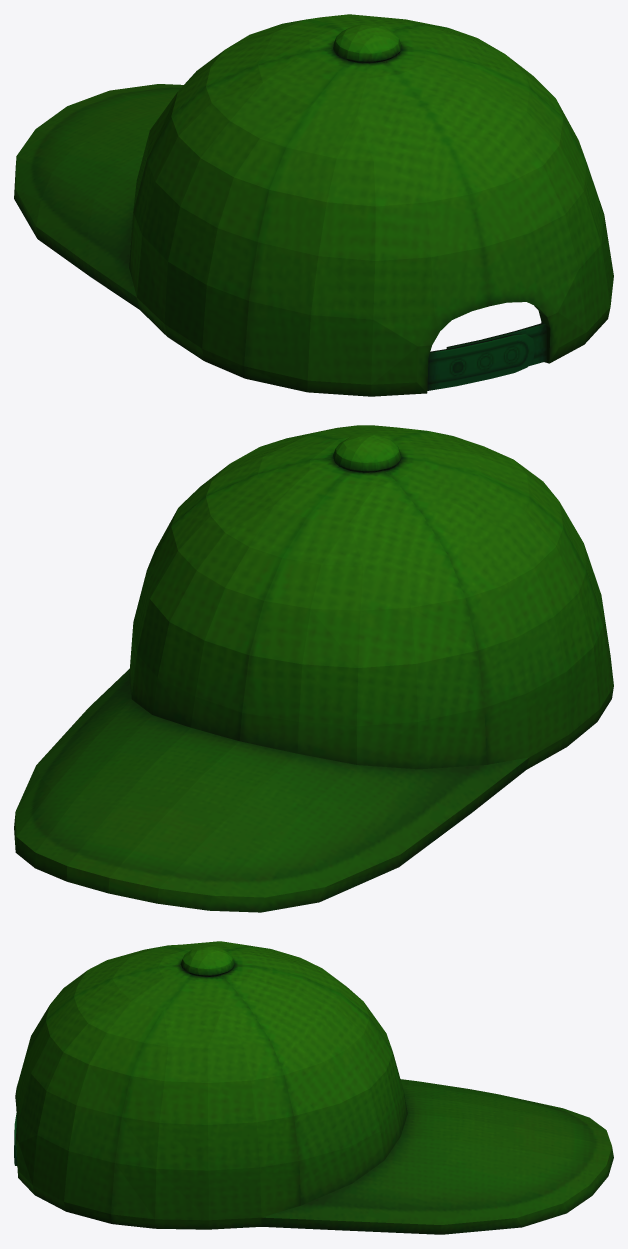
Rendered from RaceManCap.obj.
3 views of the same model, one above another, from view 1: azimuth 30°, elevation 25°; view 2: azimuth 150°, elevation 25°; view 3: azimuth 270°, elevation 25° (orthographic). The views are drawn at different scales.
Parts seen in each view (by area): view 1: RaceManCap__CapMT; view 2: RaceManCap__CapMT; view 3: RaceManCap__CapMT.
Part boxes in pixels (x1=…): RaceManCap__CapMT: x1=14, y1=14, x2=613, y2=396; RaceManCap__CapMT: x1=14, y1=425, x2=613, y2=912; RaceManCap__CapMT: x1=14, y1=941, x2=613, y2=1234.
Size of the model in its own units: 1.13 by 0.7614 by 1.86.
Materials: 1 (1 with a texture image).
